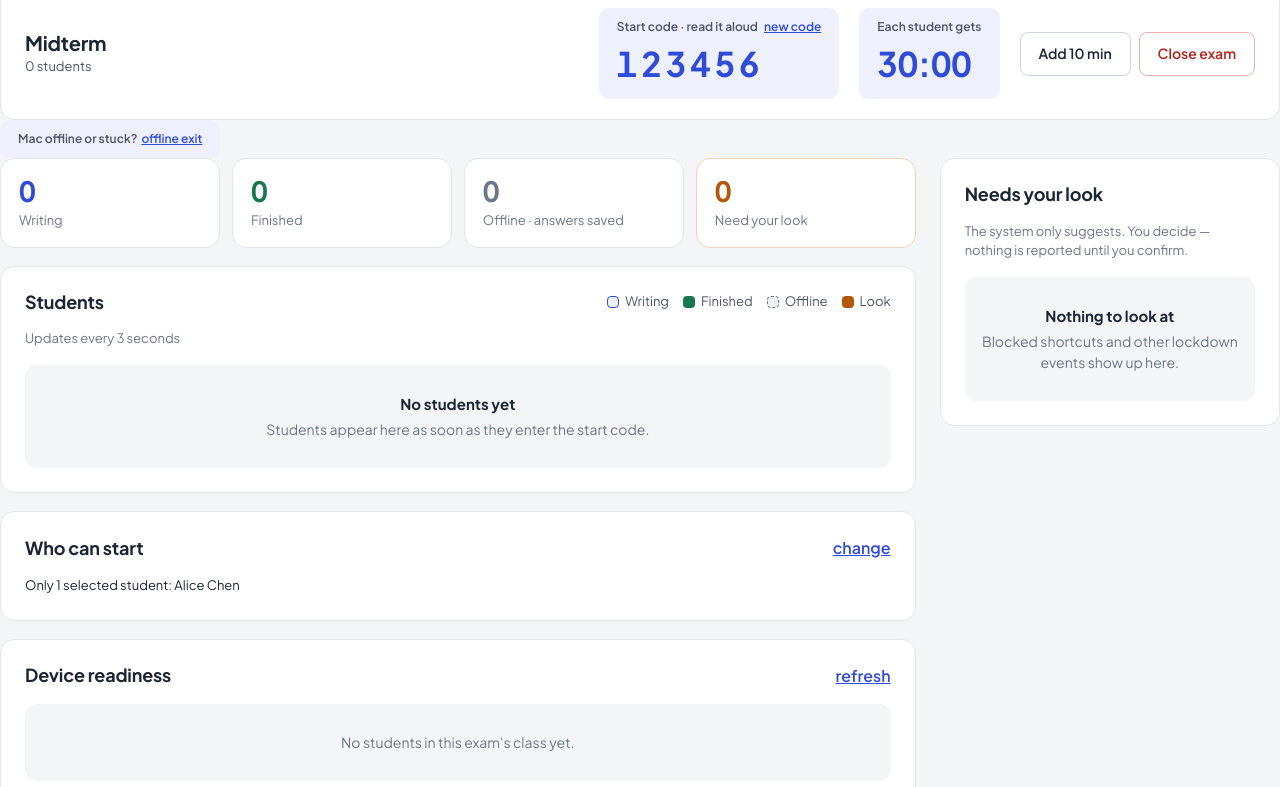
it: live room: change the selection › adds and removes students with one save
Later steps or results of the test are not shown.
Check: the text with test id "open-to-summary" reads "Only 1 selected student: Alice Chen", box [25,577,240,593]
Step 1. Click the button "change" → [860, 548], box [829,536,891,560]
(page scrolled)
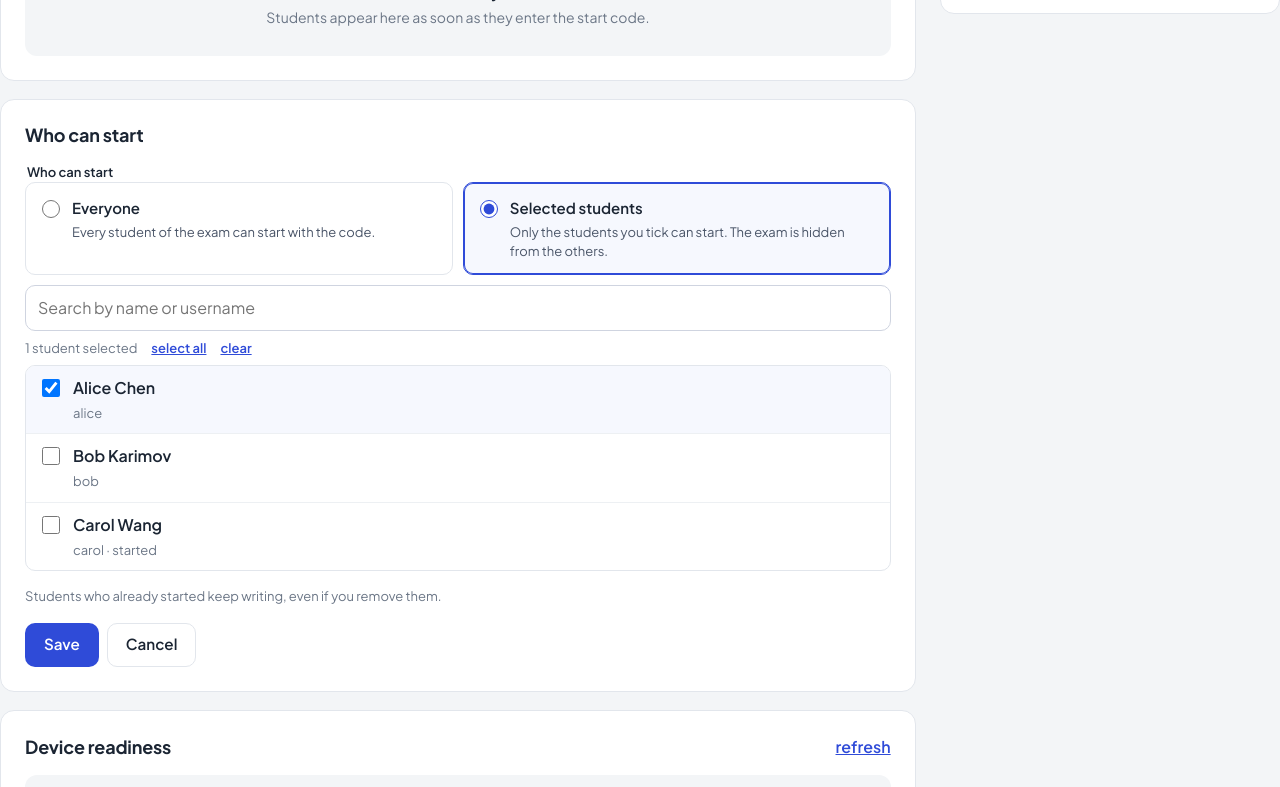
Check: the checkbox labelled "Alice Chen alice" is checked
Step 2. Click the checkbox labelled "Alice Chen alice" → [51, 388], box [42,379,60,397]
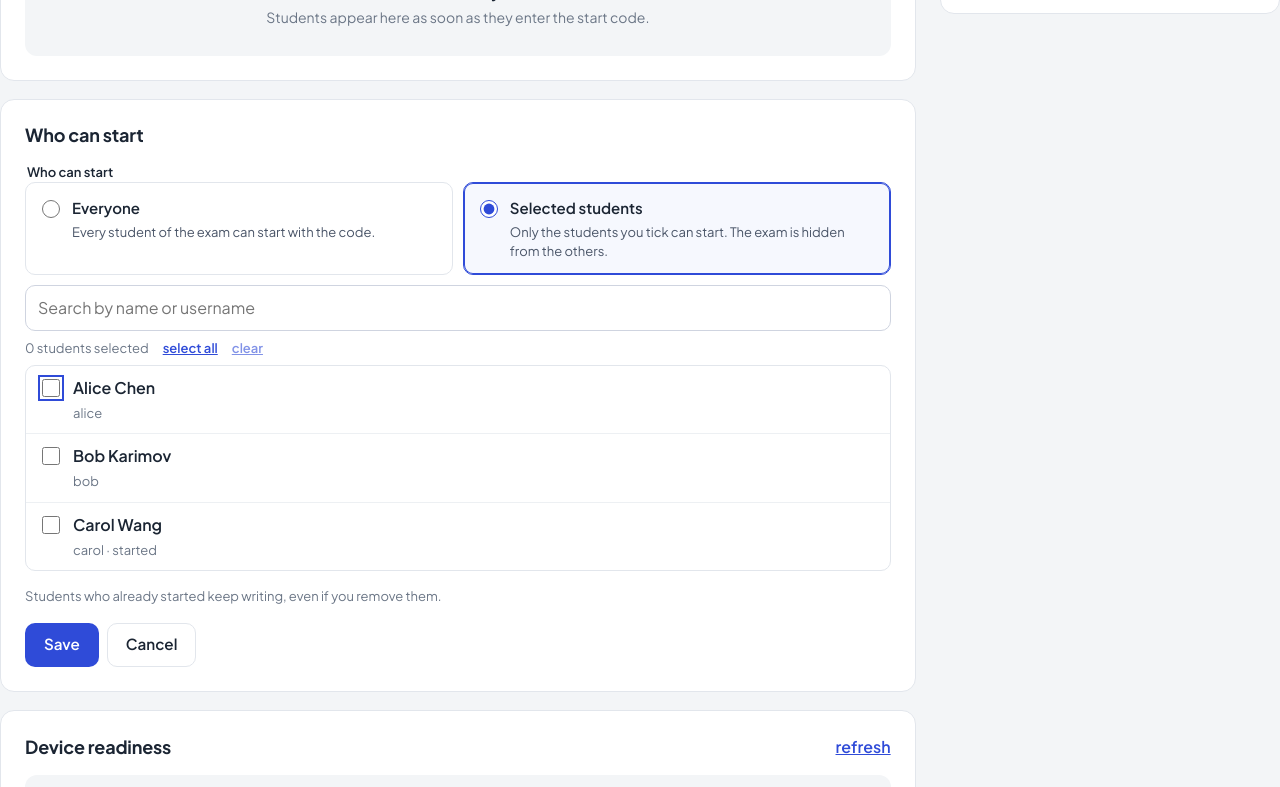
Step 3. Click the checkbox labelled "Bob Karimov bob" → [51, 456], box [42,447,60,465]
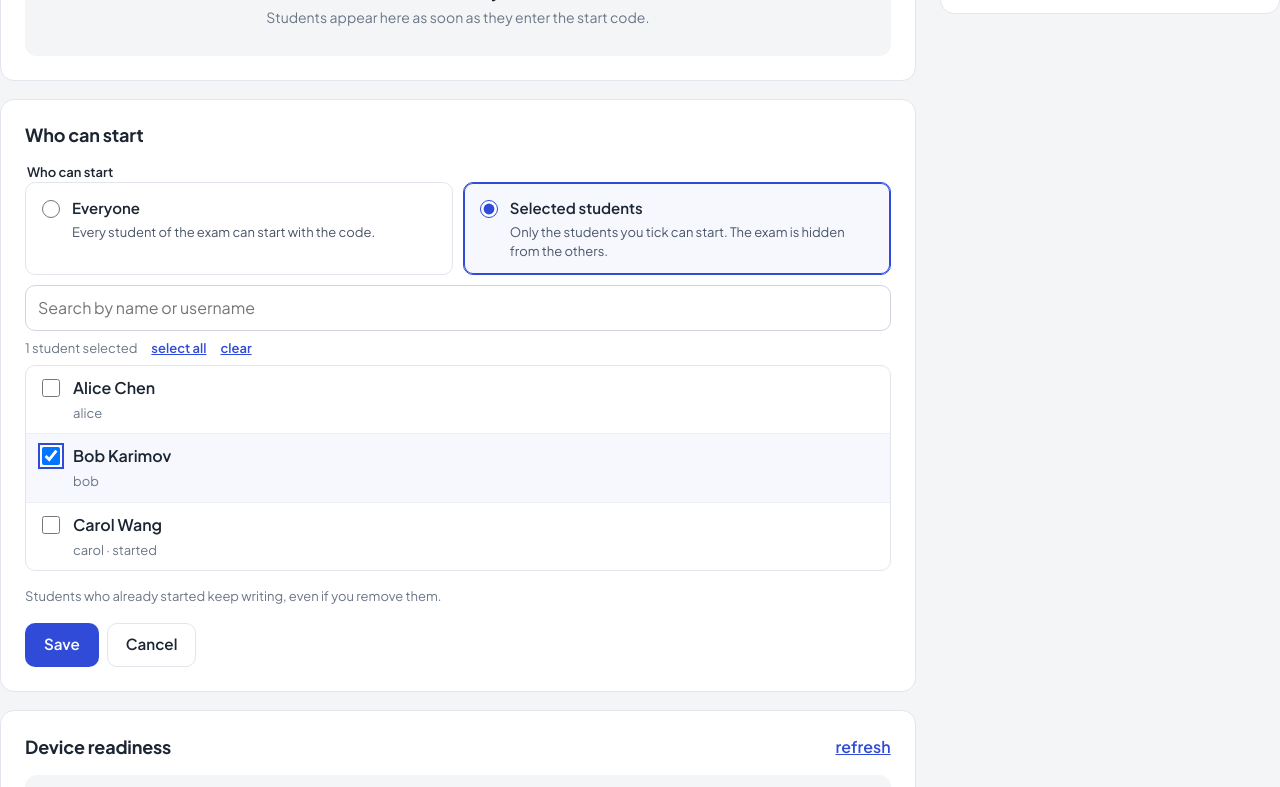
Check: the text "keep writing, even if you remove them" is shown, box [25,588,442,604]
